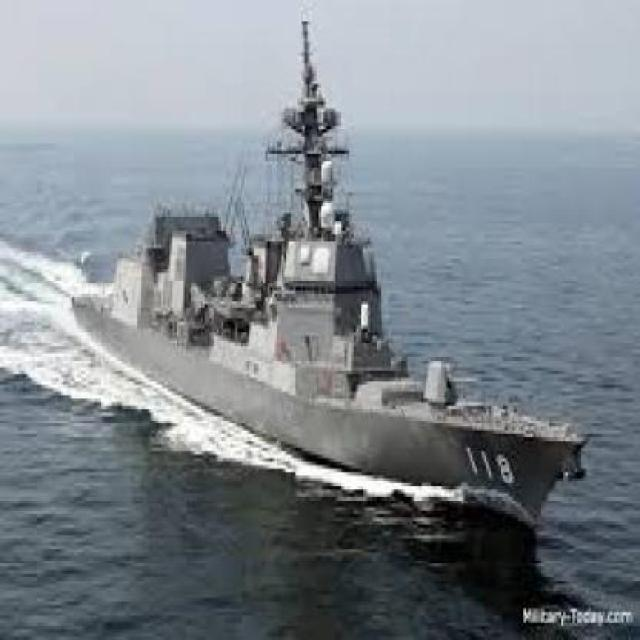warship2: (53, 8, 607, 537)
